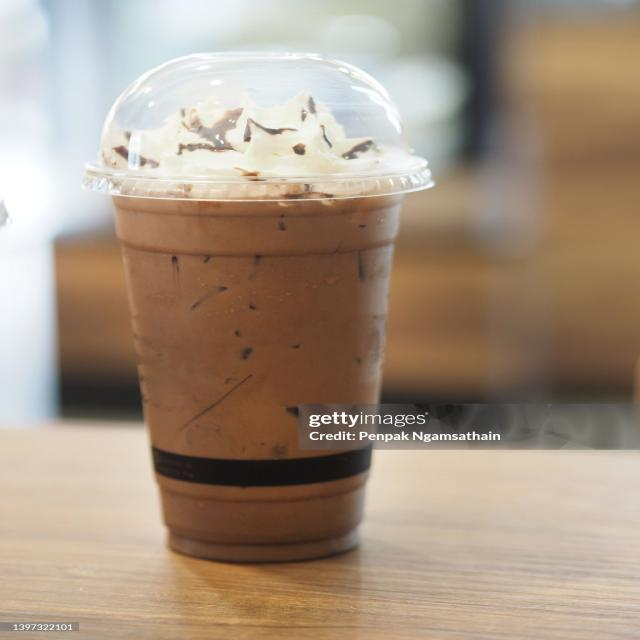cup: (80, 41, 438, 568)
